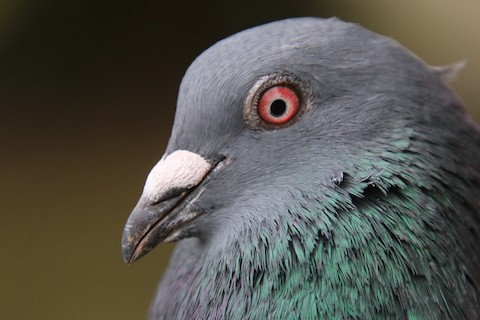pigeon: (116, 13, 471, 312)
